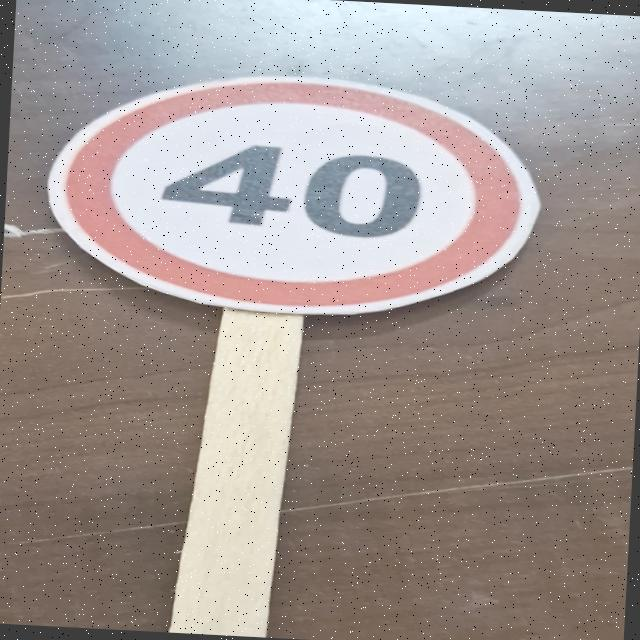Speed40: (24, 53, 552, 340)
